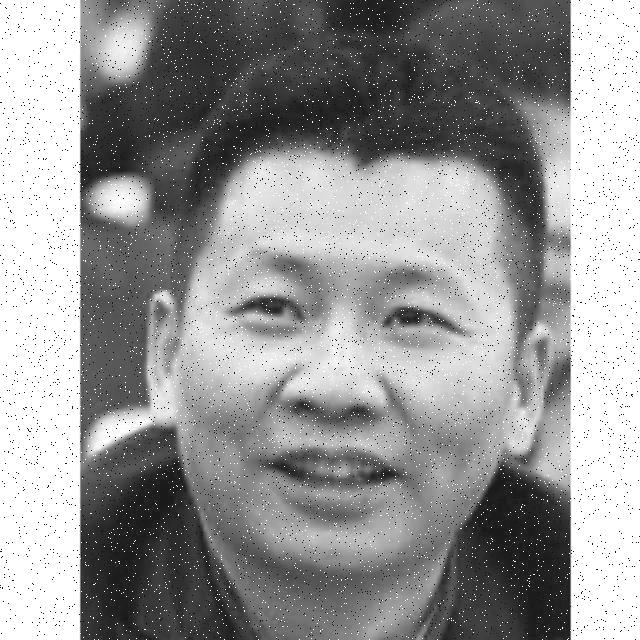real: (164, 145, 528, 584)
